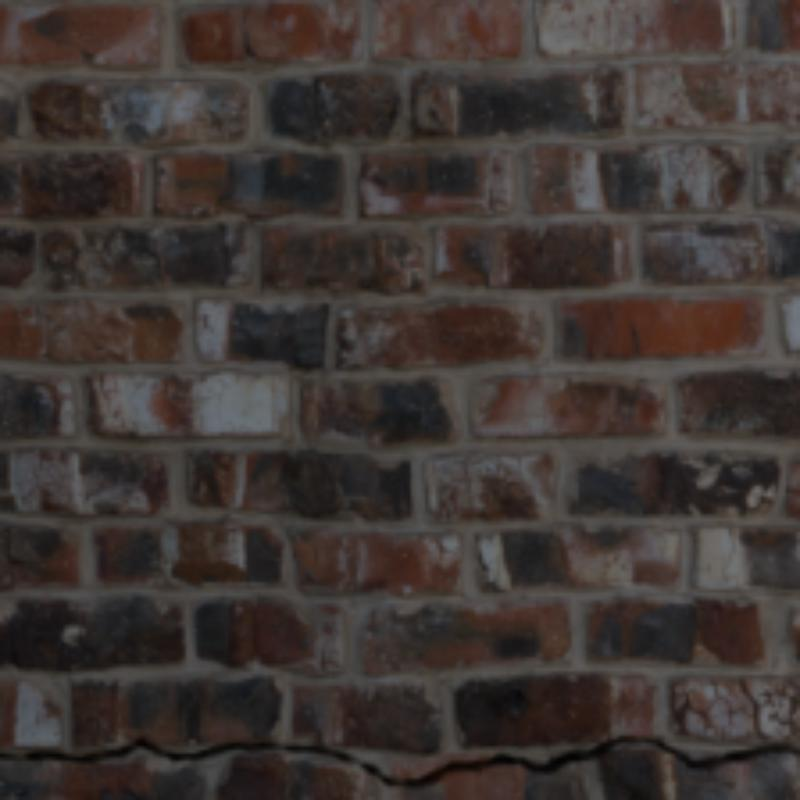crack: (0, 736, 796, 786), (743, 679, 771, 743)
